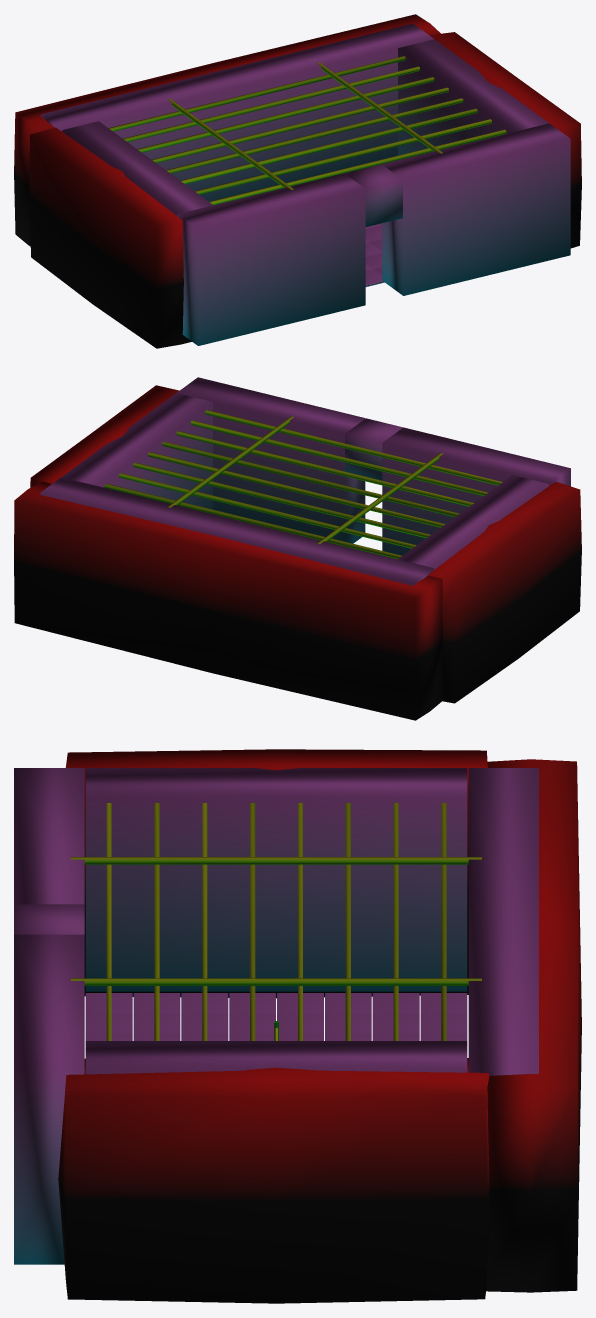
File: cloudloom_hall.glb
The picture shows the model from 3 angles, top to bottom: view 1: azimuth 30°, elevation 25°; view 2: azimuth 150°, elevation 25°; view 3: azimuth 270°, elevation 25°; orthographic projection. The views are drawn at different scales.
Visible parts, largest first — view 1: cloudloom_hall; view 2: cloudloom_hall; view 3: cloudloom_hall.
Part boxes in pixels (x1=…): cloudloom_hall: x1=14, y1=14, x2=581, y2=348; cloudloom_hall: x1=14, y1=377, x2=581, y2=720; cloudloom_hall: x1=14, y1=749, x2=581, y2=1303.
Size of what is drawn, in the model's own units: 34.76 by 9.97 by 23.74.
